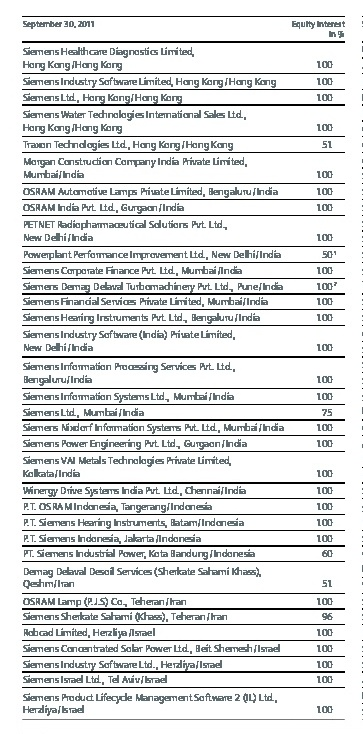table: (0, 0, 363, 734)
